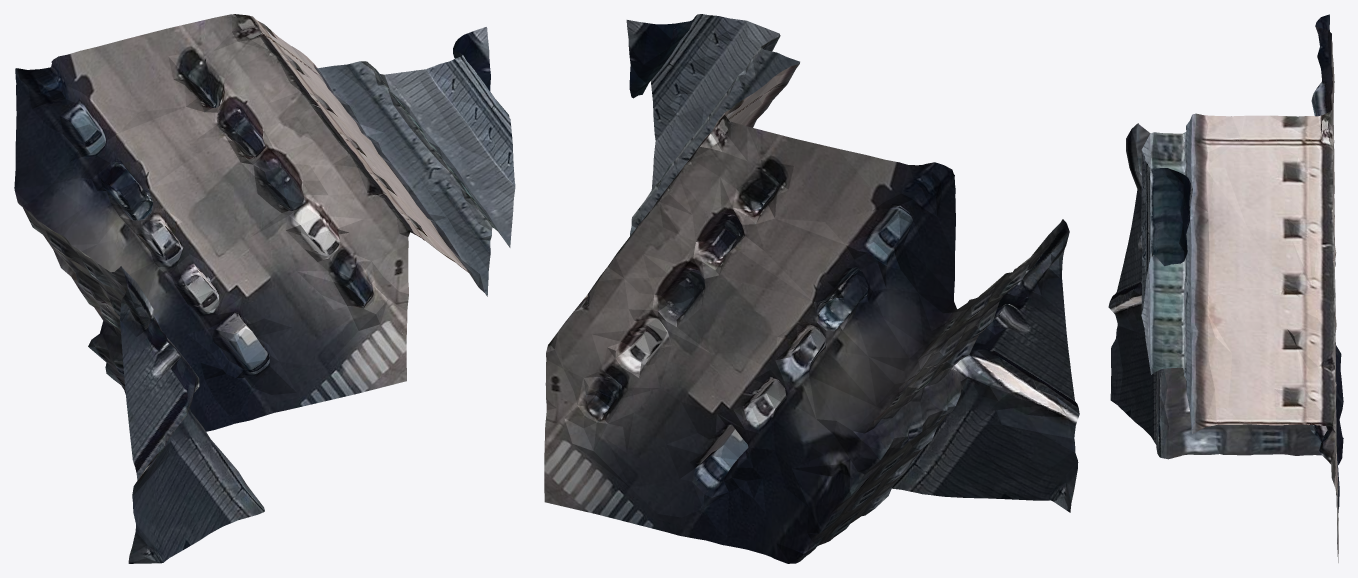
The model's file is Tile_+031_+021_L20_0003230.obj.
3 renders of one model, left to right at view 1: azimuth 30°, elevation 25°; view 2: azimuth 150°, elevation 25°; view 3: azimuth 270°, elevation 25°, orthographic. The views are drawn at different scales.
Bounding box in the file's own units: 31.5 × 31.38 × 17.85.
Materials: 1 (1 with a texture image).
